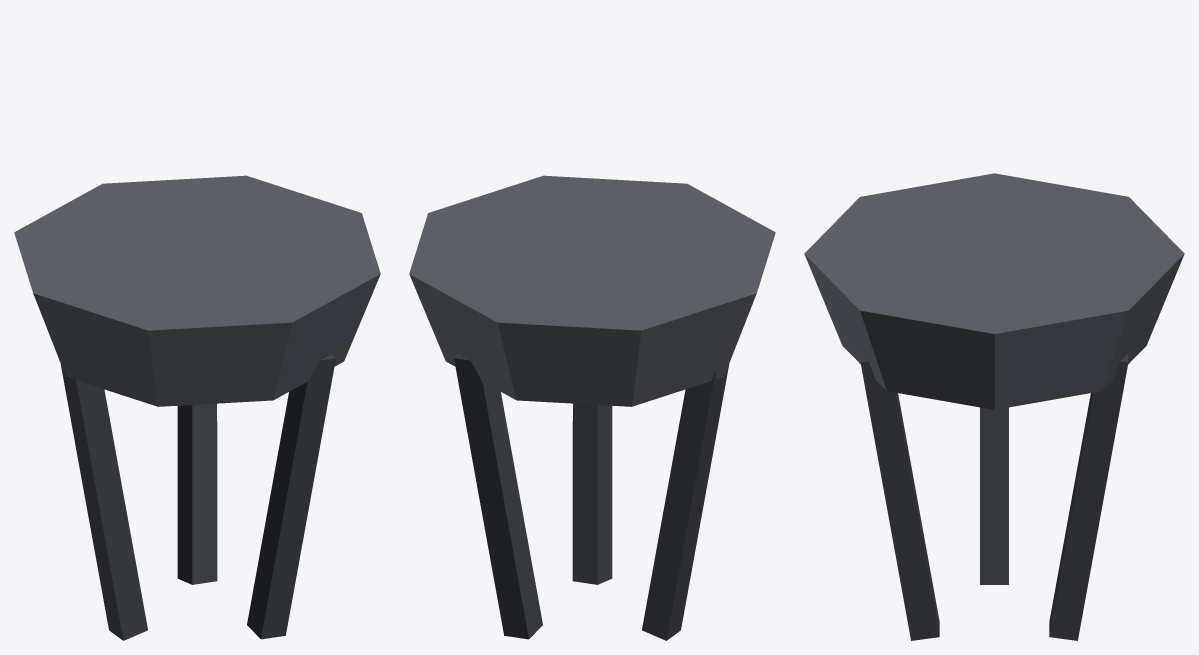
The model's file is PR_Brazier.fbx.
3 views of the same model, side by side, from view 1: azimuth 30°, elevation 25°; view 2: azimuth 150°, elevation 25°; view 3: azimuth 270°, elevation 25° (orthographic).
Parts seen in each view (by area): view 1: PR_Brazier_Bowl, PR_Brazier_Leg1, PR_Brazier_Leg0, PR_Brazier_Leg2; view 2: PR_Brazier_Bowl, PR_Brazier_Leg2, PR_Brazier_Leg0, PR_Brazier_Leg1; view 3: PR_Brazier_Bowl, PR_Brazier_Leg1, PR_Brazier_Leg2, PR_Brazier_Leg0.
Part boxes in pixels (x1,y1,x2,y2): PR_Brazier_Bowl: [14, 175, 380, 406]; PR_Brazier_Leg1: [247, 354, 335, 639]; PR_Brazier_Leg0: [60, 364, 147, 640]; PR_Brazier_Leg2: [177, 403, 217, 584]; PR_Brazier_Bowl: [409, 175, 775, 406]; PR_Brazier_Leg2: [454, 354, 542, 639]; PR_Brazier_Leg0: [642, 364, 729, 640]; PR_Brazier_Leg1: [572, 403, 612, 584]; PR_Brazier_Bowl: [804, 173, 1184, 409]; PR_Brazier_Leg1: [860, 353, 939, 640]; PR_Brazier_Leg2: [1049, 353, 1128, 640]; PR_Brazier_Leg0: [980, 407, 1008, 584].
Size of the model in its own units: 1.05 by 1.05 by 1.84.
